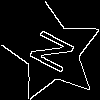N: (27, 27, 85, 80)
